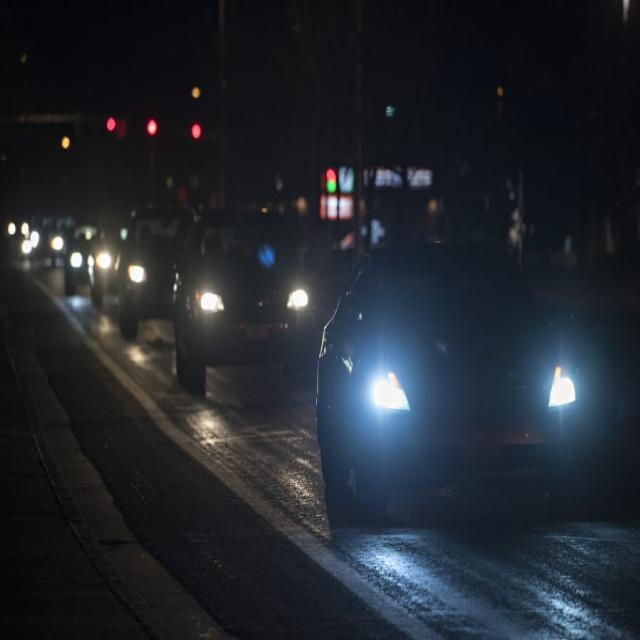headlights: (354, 334, 590, 451), (186, 273, 318, 340)
